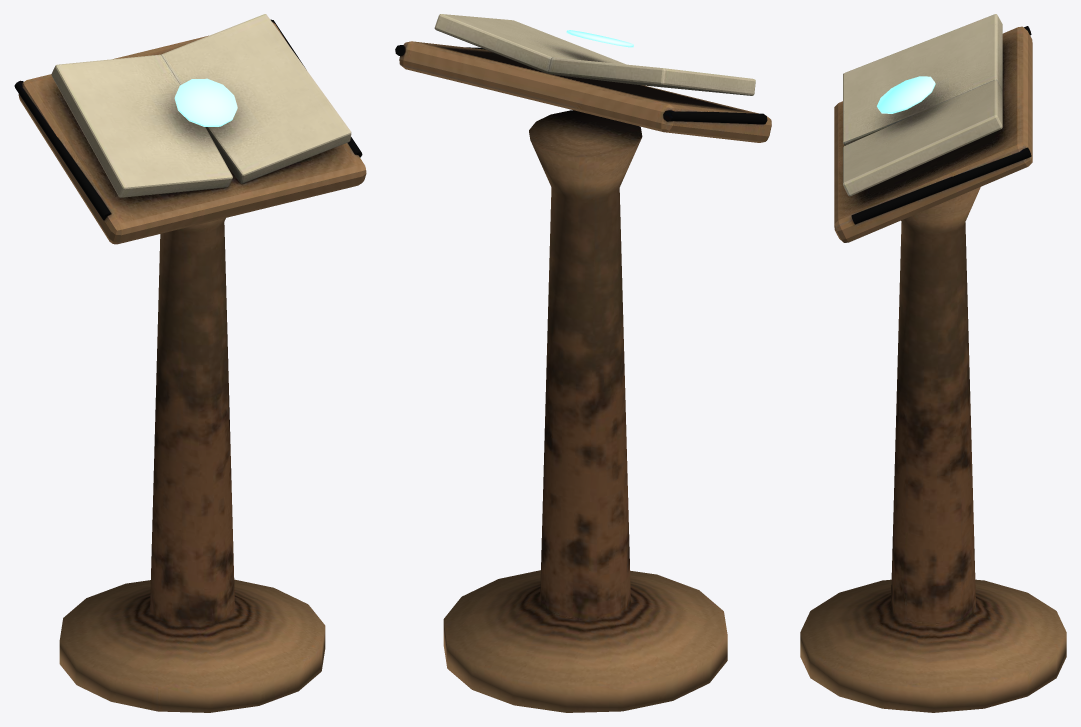
The model's file is dg_atril.glb.
The picture shows the model from 3 angles, left to right: view 1: azimuth 30°, elevation 25°; view 2: azimuth 150°, elevation 25°; view 3: azimuth 270°, elevation 25°; orthographic projection. The views are drawn at different scales.
Visible parts, largest first — view 1: dg_atril_tronco, runa; view 2: dg_atril_tronco; view 3: dg_atril_tronco, runa.
Part boxes in pixels (bbox=[...]): dg_atril_tronco: bbox=[14, 14, 366, 712]; runa: bbox=[174, 78, 237, 126]; dg_atril_tronco: bbox=[395, 14, 771, 712]; dg_atril_tronco: bbox=[800, 14, 1066, 712]; runa: bbox=[877, 76, 935, 113].
Bounding box in the file's own units: 0.56 × 1.23 × 0.5.
2 materials, 1 textured.
